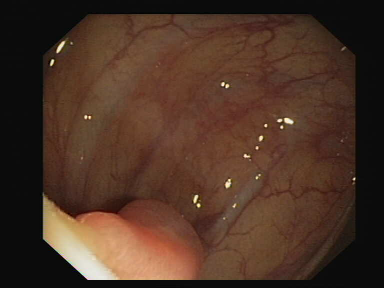polyp: (66, 167, 239, 279)
